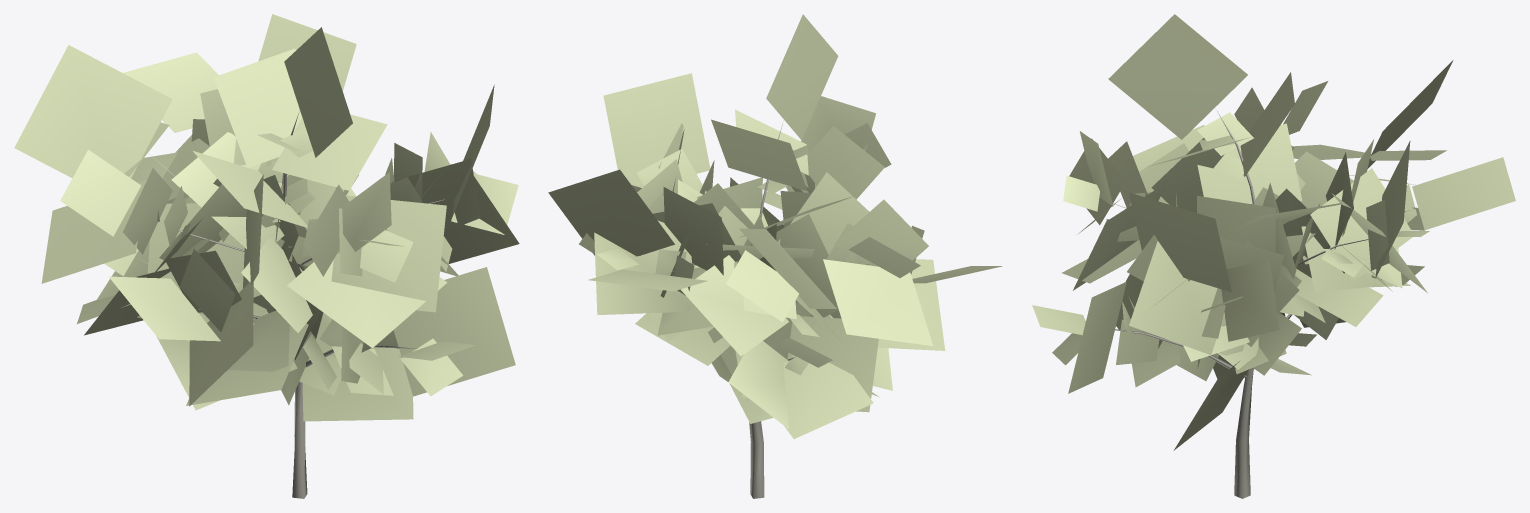
The model's file is maple2_lo.glb.
3 views of the same model, side by side, from view 1: azimuth 30°, elevation 25°; view 2: azimuth 150°, elevation 25°; view 3: azimuth 270°, elevation 25° (orthographic). The views are drawn at different scales.
Bounding box in the file's own units: 7.65 × 9 × 8.31.
